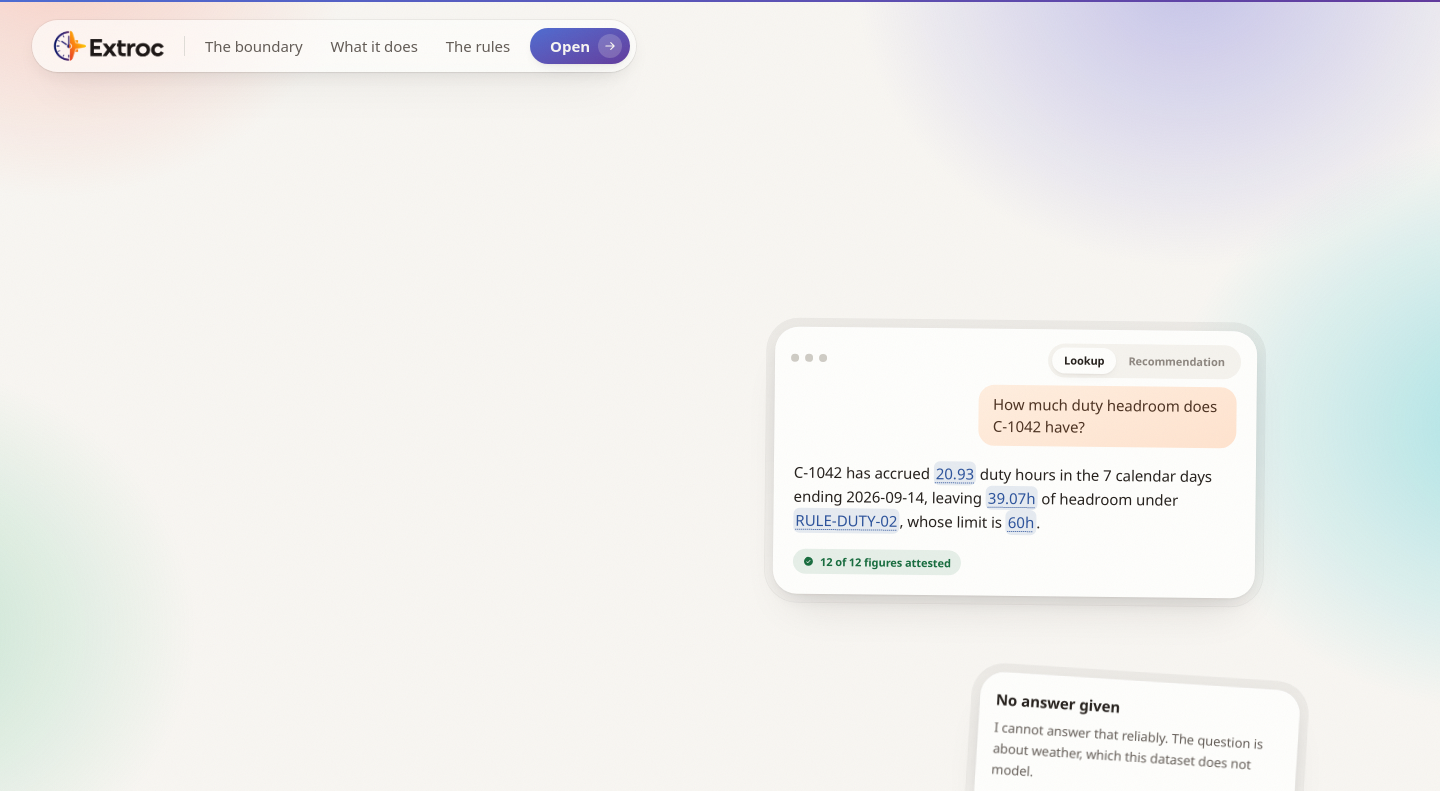
Scenario: toggles the hero answer between lookup and recommendation output
(page scrolled)
Check: the text "How much duty headroom does C-1042 have?" is shown, box 979,384 -> 1237,448
Click the tab "Recommendation": [1177, 361] box 1116,348 -> 1237,375
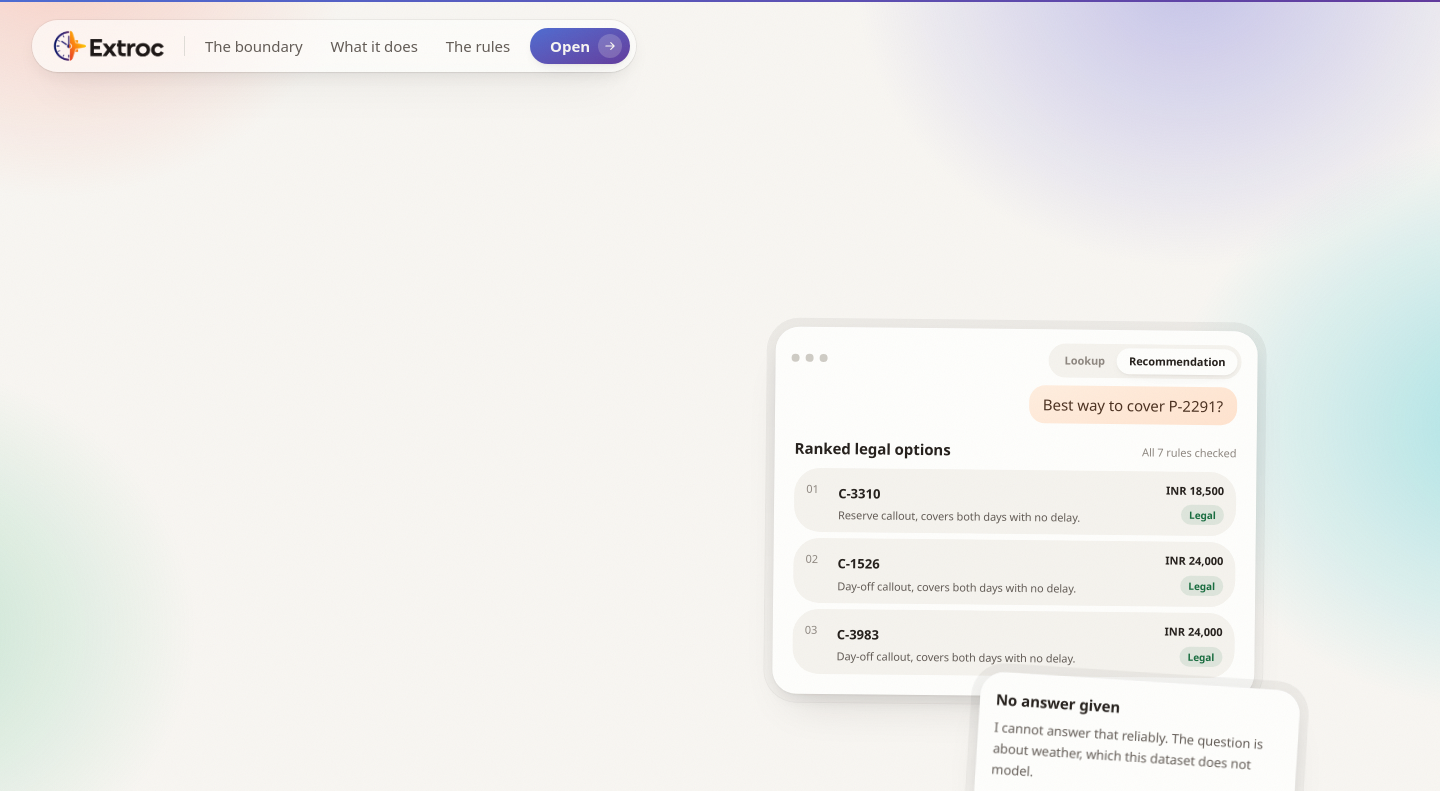
Check: the text "Ranked legal options" is shown, box 795,436 -> 951,460
Check: the text "INR 18,500" is shown, box 1166,481 -> 1224,499
Check: the text "Legal" below "INR 18,500" is shown, box 1189,508 -> 1216,522
